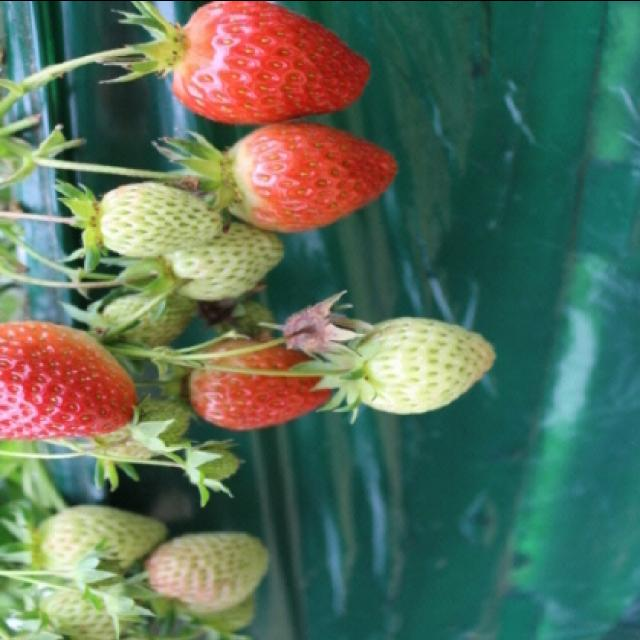Gray Mold: (282, 288, 366, 358)
